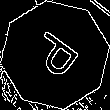P_SE: (24, 25, 86, 85)
